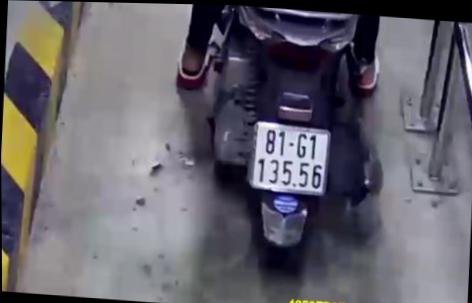LP: (243, 117, 334, 197)
